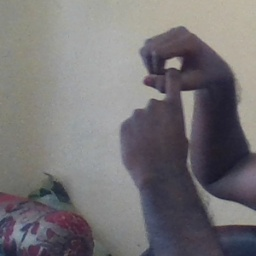Q: (119, 24, 218, 157)
